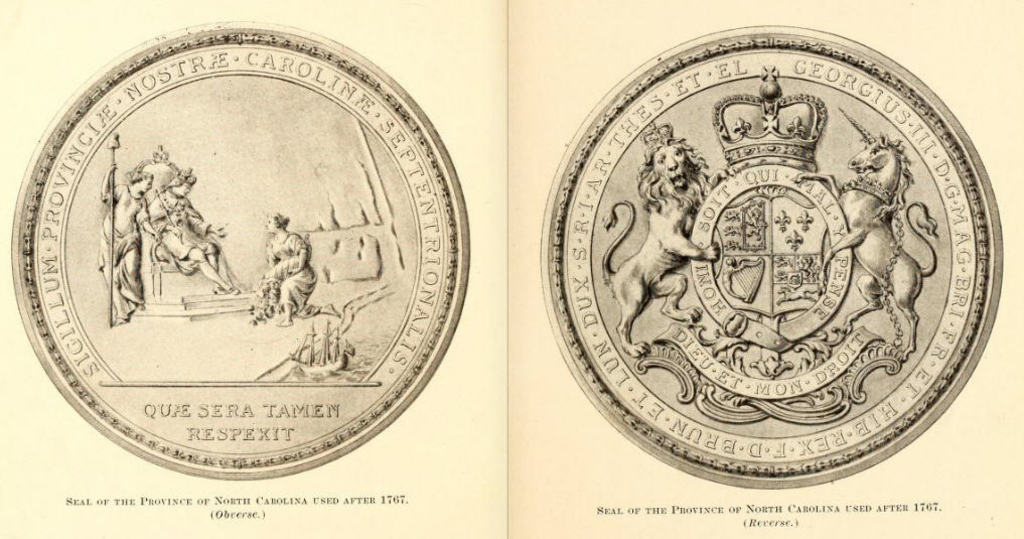Coin: (539, 24, 1004, 490), (10, 21, 470, 480)
